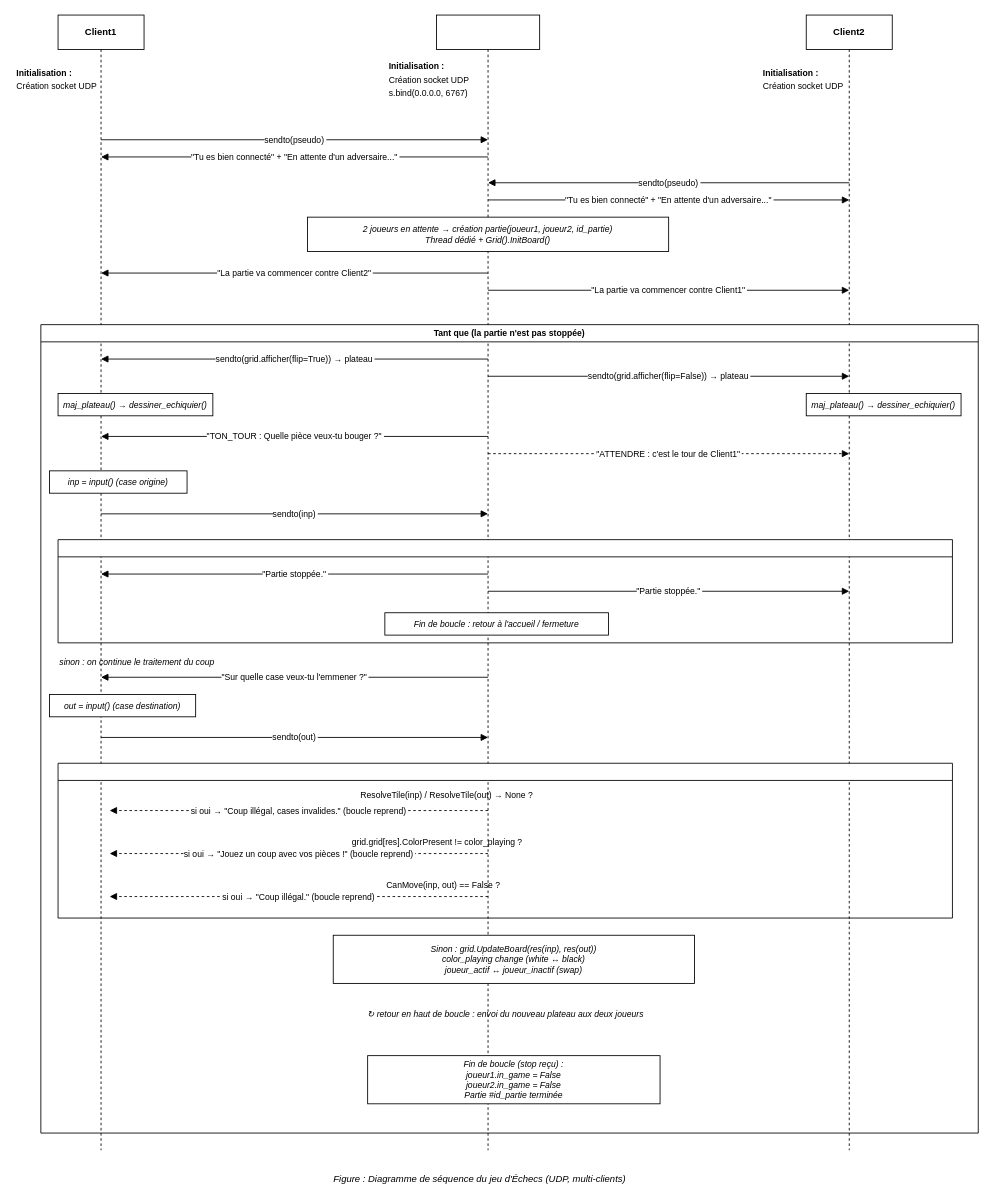
This 993x1200 diagram has some shape labels left out. The shapes that lost their labels are listed below. From the top down, each one's box as (x1, y1, x2, y2) in pixels, then its label:
(436, 14, 540, 49): Serveur
(57, 539, 952, 643): alt : inp == "stop"
(57, 762, 952, 918): Validation serveur (Grid)
